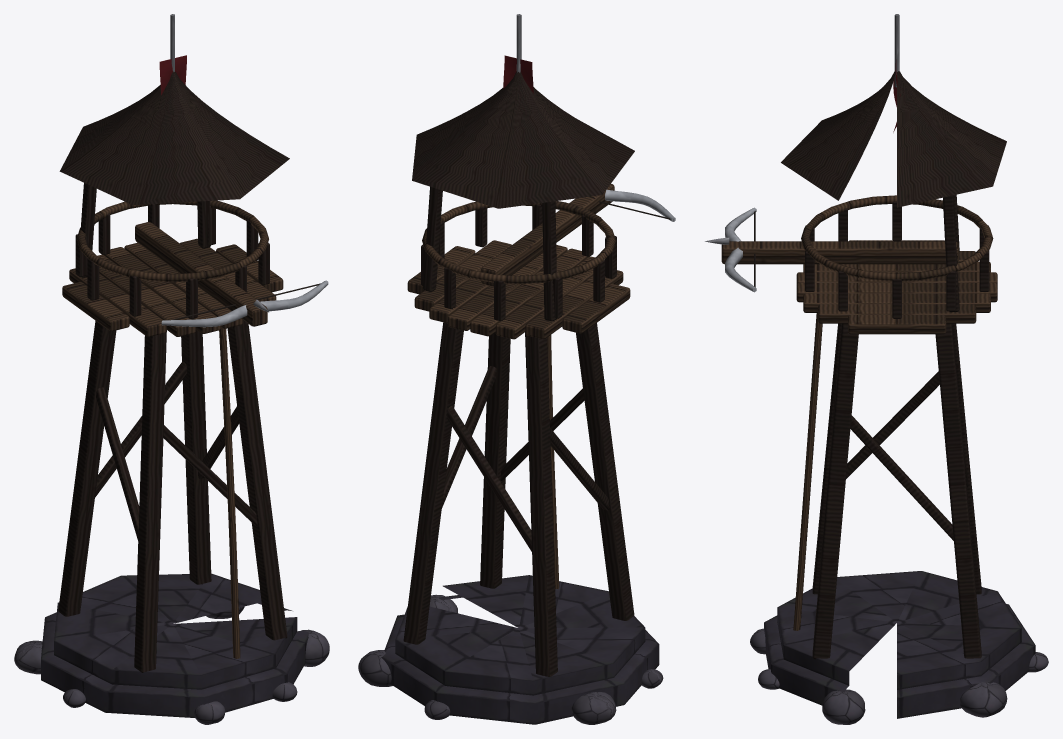
The model's file is eyrie.glb.
3 views of the same model, side by side, from view 1: azimuth 30°, elevation 25°; view 2: azimuth 150°, elevation 25°; view 3: azimuth 270°, elevation 25° (orthographic).
Parts seen in each view (by area): view 1: Base, Turret; view 2: Base, Turret; view 3: Base, Turret.
Boxes of the visible parts, x1,y1,x2,y2 form: Base: [14, 238, 329, 724]; Turret: [59, 14, 328, 327]; Base: [358, 240, 663, 724]; Turret: [412, 14, 675, 321]; Base: [750, 240, 1048, 724]; Turret: [705, 14, 1006, 318].
Bounding box in the file's own units: 0.9211 × 2.28 × 1.09.
Materials: 8 (8 with a texture image).
